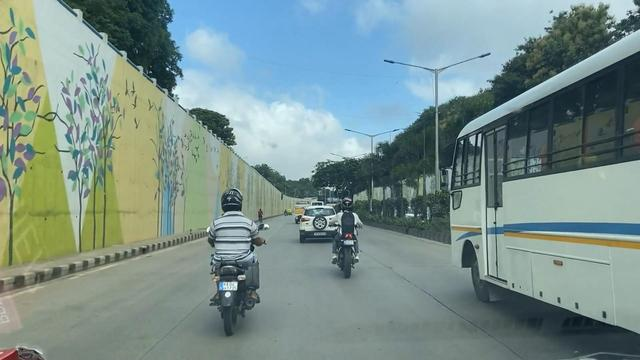LMV: (205, 189, 260, 317), (333, 197, 361, 278), (296, 207, 336, 238)
